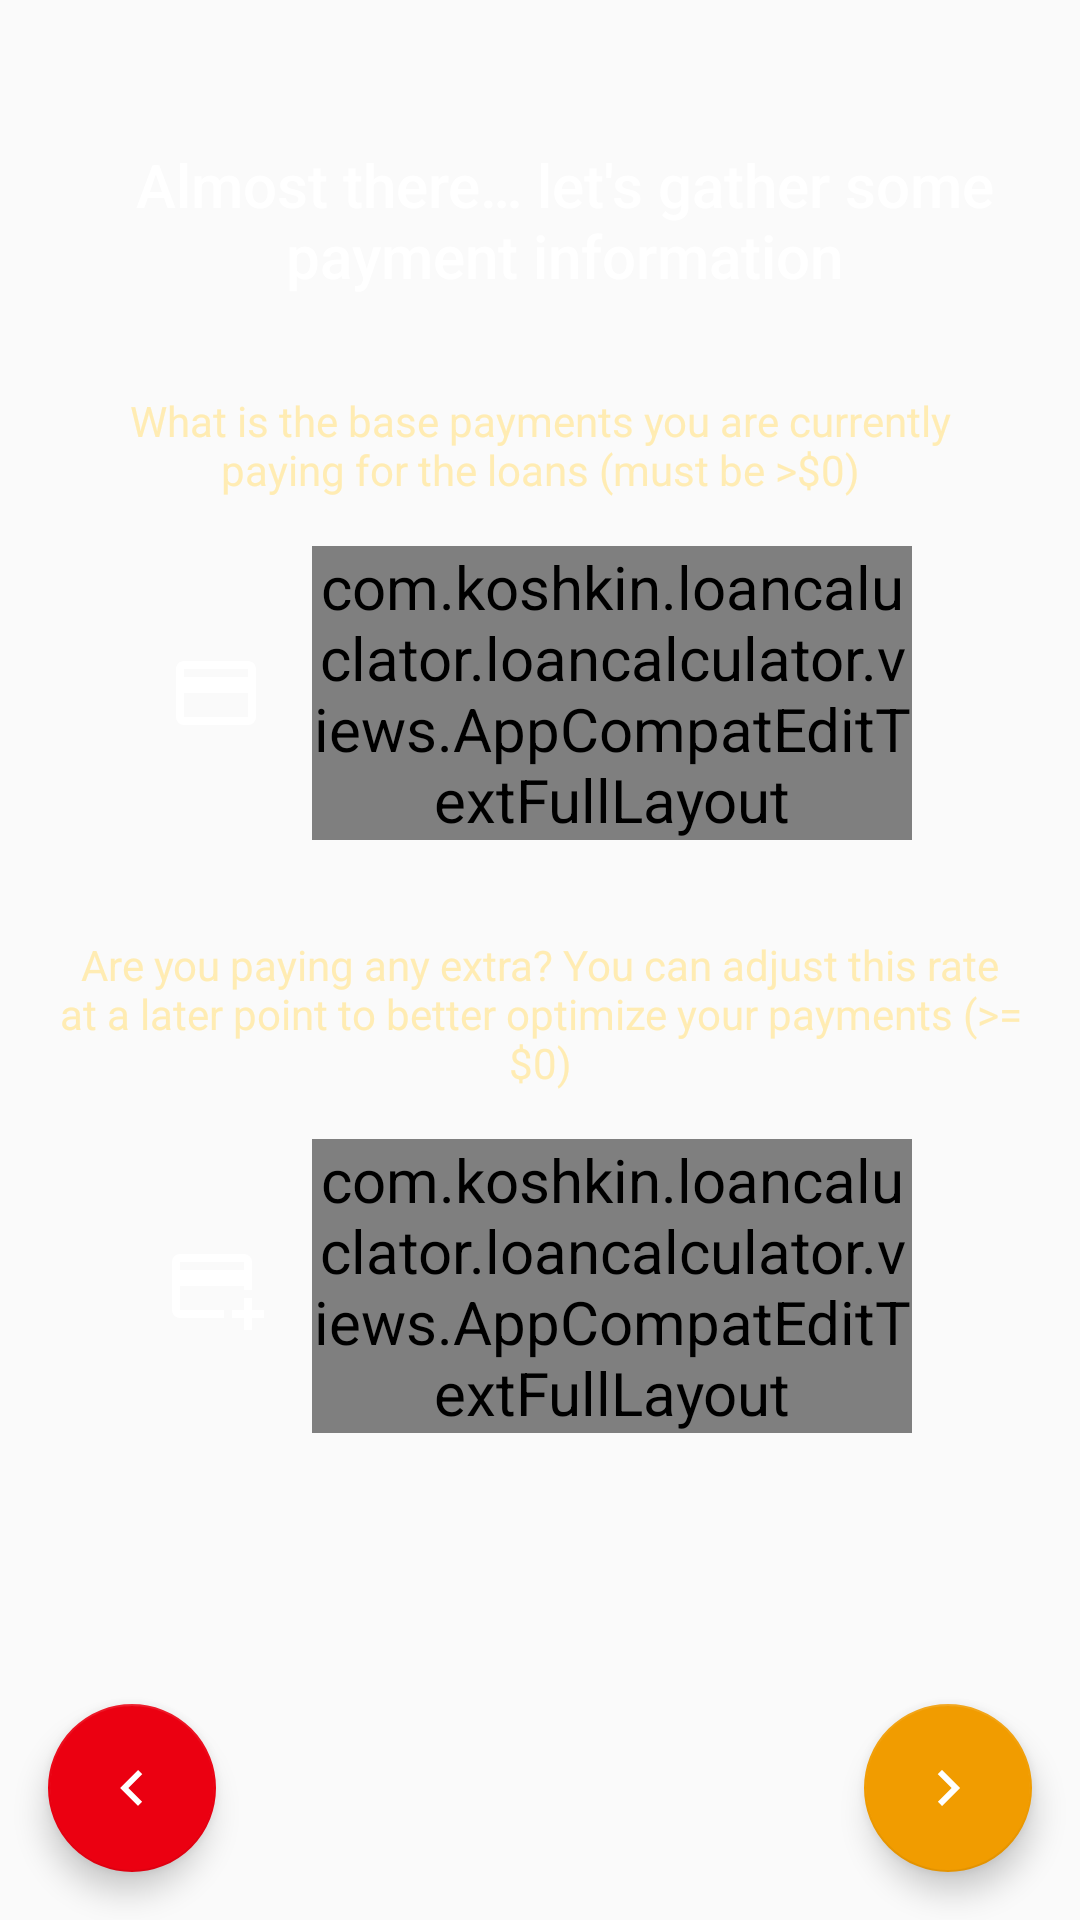

Named icons in this screenshot (1080 x 1920) and their bounding boxes, (x1, y1, x2, y2):
chevron: (864, 1704, 1032, 1872)
chevron backwards: (48, 1704, 216, 1872)
